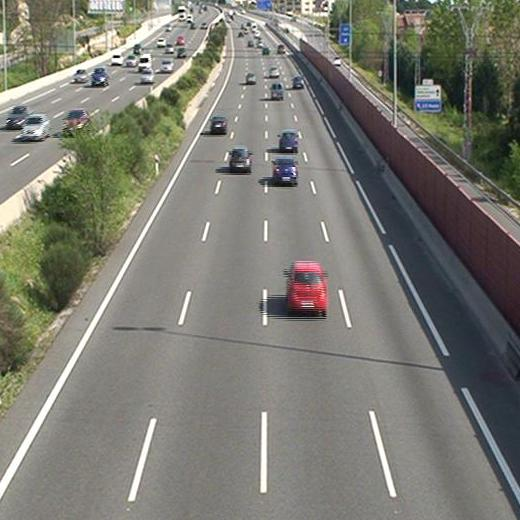car: (284, 261, 331, 313), (270, 158, 299, 183), (229, 146, 252, 172), (278, 130, 300, 152), (209, 116, 228, 134), (291, 76, 305, 89), (244, 72, 257, 85), (268, 66, 279, 77)
van: (270, 82, 284, 101)
